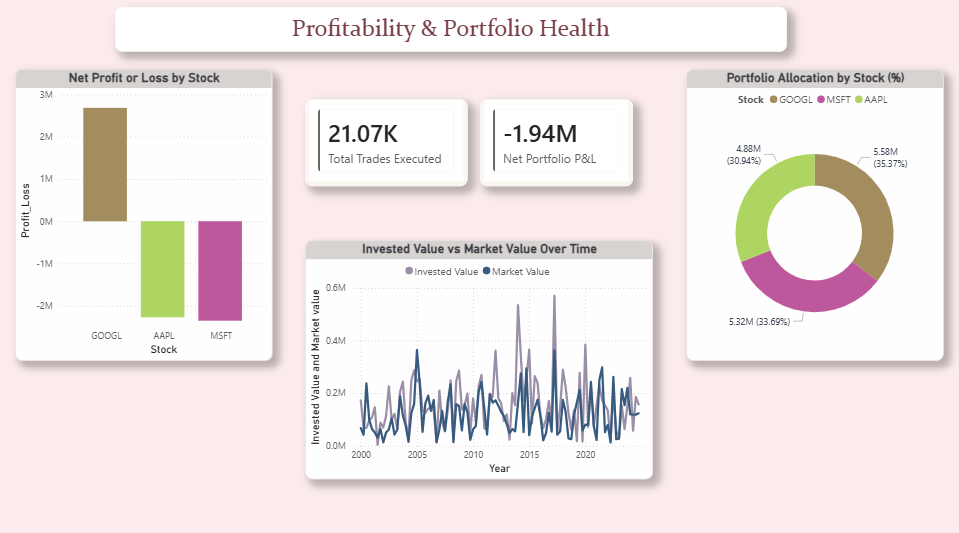

The page's visual inventory and layout, read from the dashboard file:
{"tool":"powerbi","page":{"name":"Profitability & Portfolio Health","canvas":[1280,720],"ordinal":2},"visuals":[{"type":"textbox","box":[152.9,11.4,895.7,60],"z":0},{"type":"lineChart","title":"Invested Value vs Market Value Over Time","fields":{"Y":["Sum(portfolio_analytics.Invested_Value)","Sum(portfolio_analytics.Market_Value)"],"Category":["portfolio_analytics.Trade_Date.Variation.Date Hierarchy.Year","portfolio_analytics.Trade_Date.Variation.Date Hierarchy.Quarter"]},"box":[407.1,322.9,464.3,318.6],"z":1000},{"type":"columnChart","title":"Net Profit or Loss by Stock","fields":{"Category":["portfolio_analytics.Stock"],"Y":["Sum(portfolio_analytics.Profit_Loss)"]},"box":[20,94.3,342.9,388.6],"z":2000},{"type":"donutChart","title":"Portfolio Allocation by Stock (%)","fields":{"Category":["portfolio_analytics.Stock"],"Y":["Sum(portfolio_analytics.Invested_Value)"]},"box":[915.7,94.3,342.9,388.6],"z":3000},{"type":"cardVisual","title":"Normalized Stock Price Trend","fields":{"Data":["Sum(portfolio_analytics.Quantity)"]},"box":[407.1,134.3,217.1,115.7],"z":4000},{"type":"cardVisual","title":"Normalized Stock Price Trend","fields":{"Data":["Sum(portfolio_analytics.Profit_Loss)"]},"box":[640,134.3,204.3,115.7],"z":5000}]}

Visuals, with their boxes in screenshot pixels (x1, y1, x2, y2), scaled from the page's 1280x720 canvas onto the 959x533 screenshot:
textbox: detection(115, 8, 786, 53)
"Invested Value vs Market Value Over Time" lineChart: detection(305, 239, 653, 475)
"Net Profit or Loss by Stock" columnChart: detection(15, 70, 272, 357)
"Portfolio Allocation by Stock (%)" donutChart: detection(686, 70, 943, 357)
"Normalized Stock Price Trend" cardVisual: detection(305, 99, 468, 185)
"Normalized Stock Price Trend" cardVisual: detection(480, 99, 633, 185)
